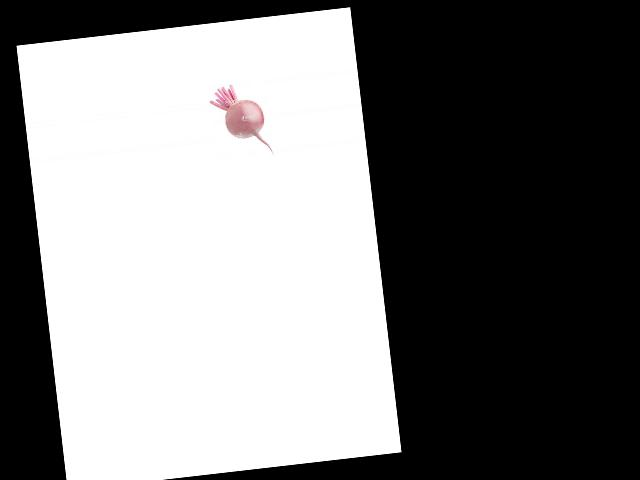beet: (207, 80, 273, 160)
